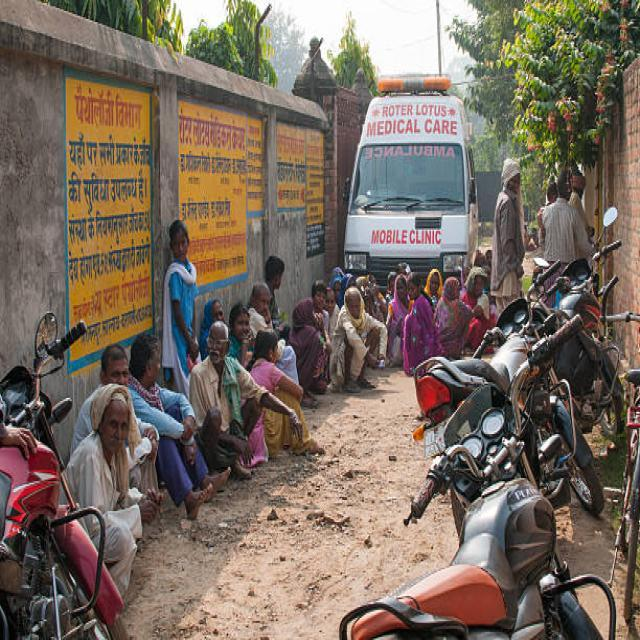ambulance: (343, 80, 480, 295)
